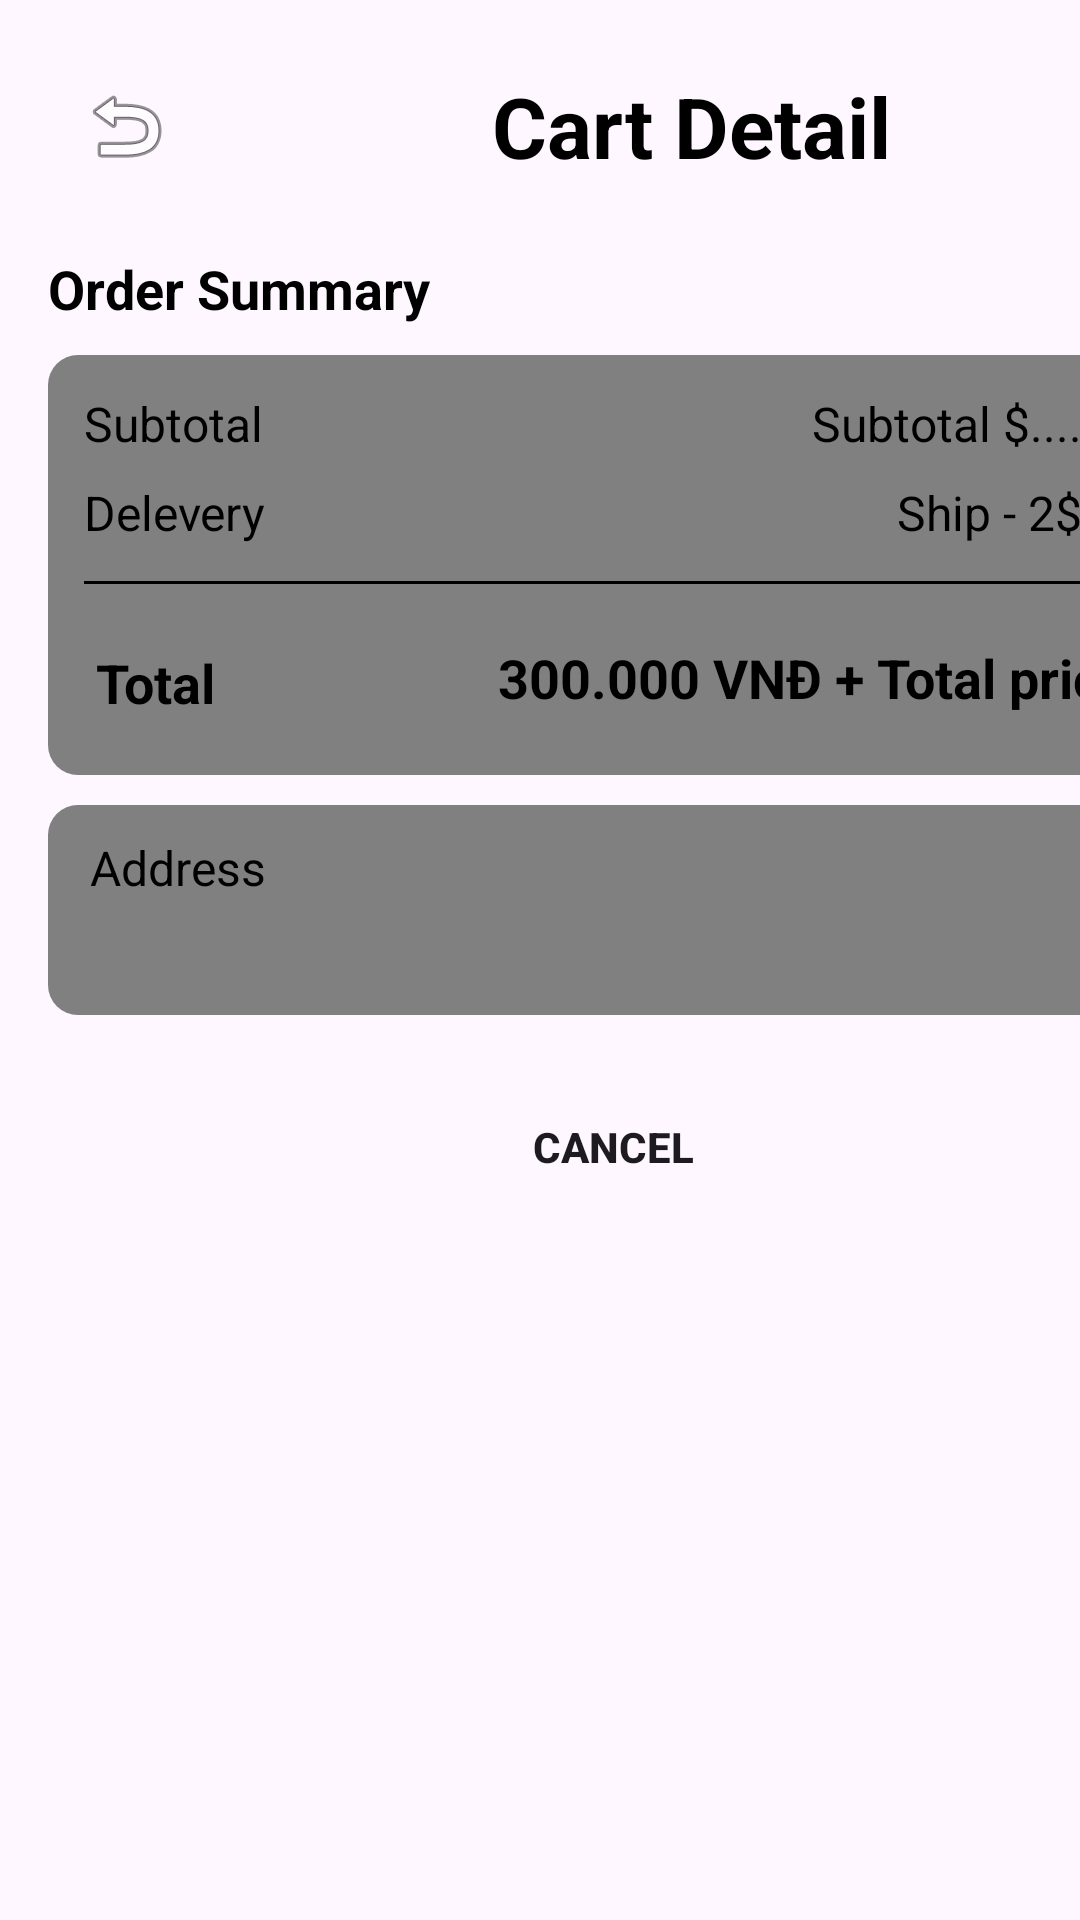

Named icons in this screenshot (1080px x 1920px) and their bounding boxes, (x1, y1, x2, y2):
revert: (93, 95, 162, 158)
